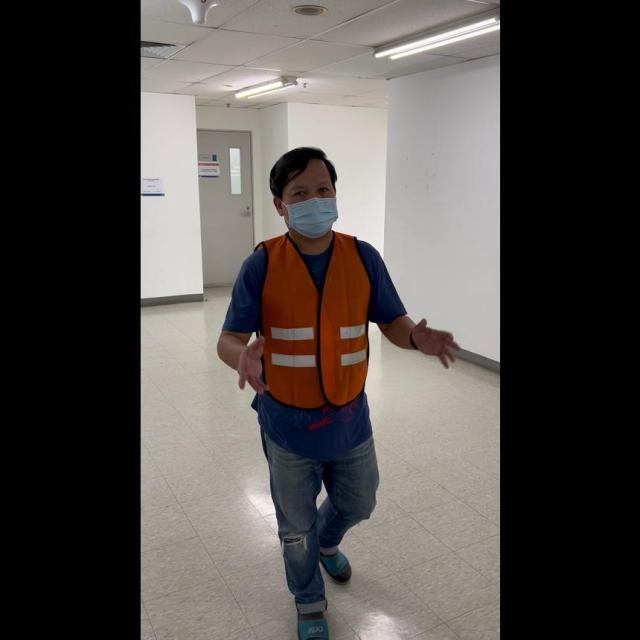bare_hand: (409, 314, 459, 371), (234, 327, 267, 395)
